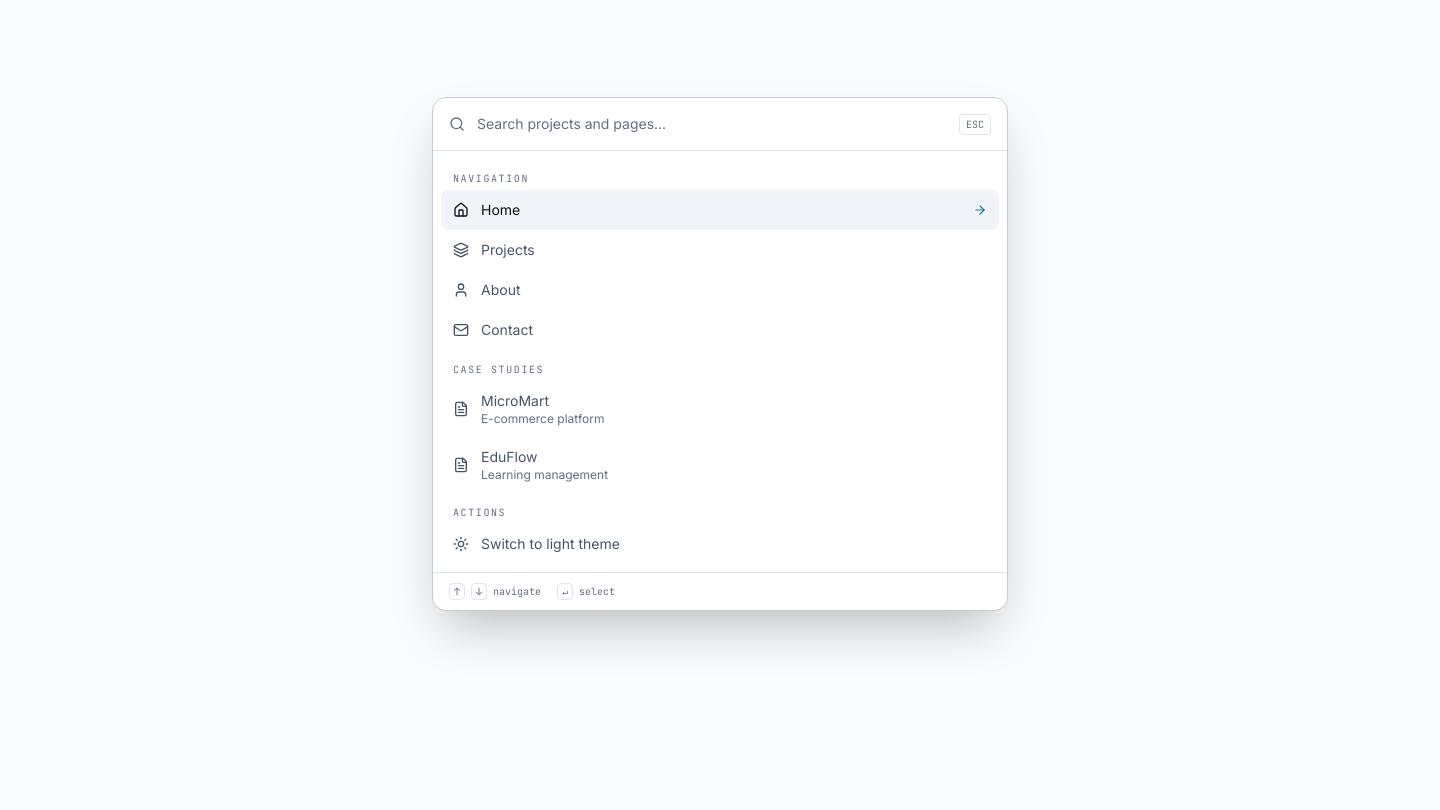
it: CommandPalette › reports when nothing matches
Type "zzzznomatch" into the field at (712, 124), box [477,98,947,150]
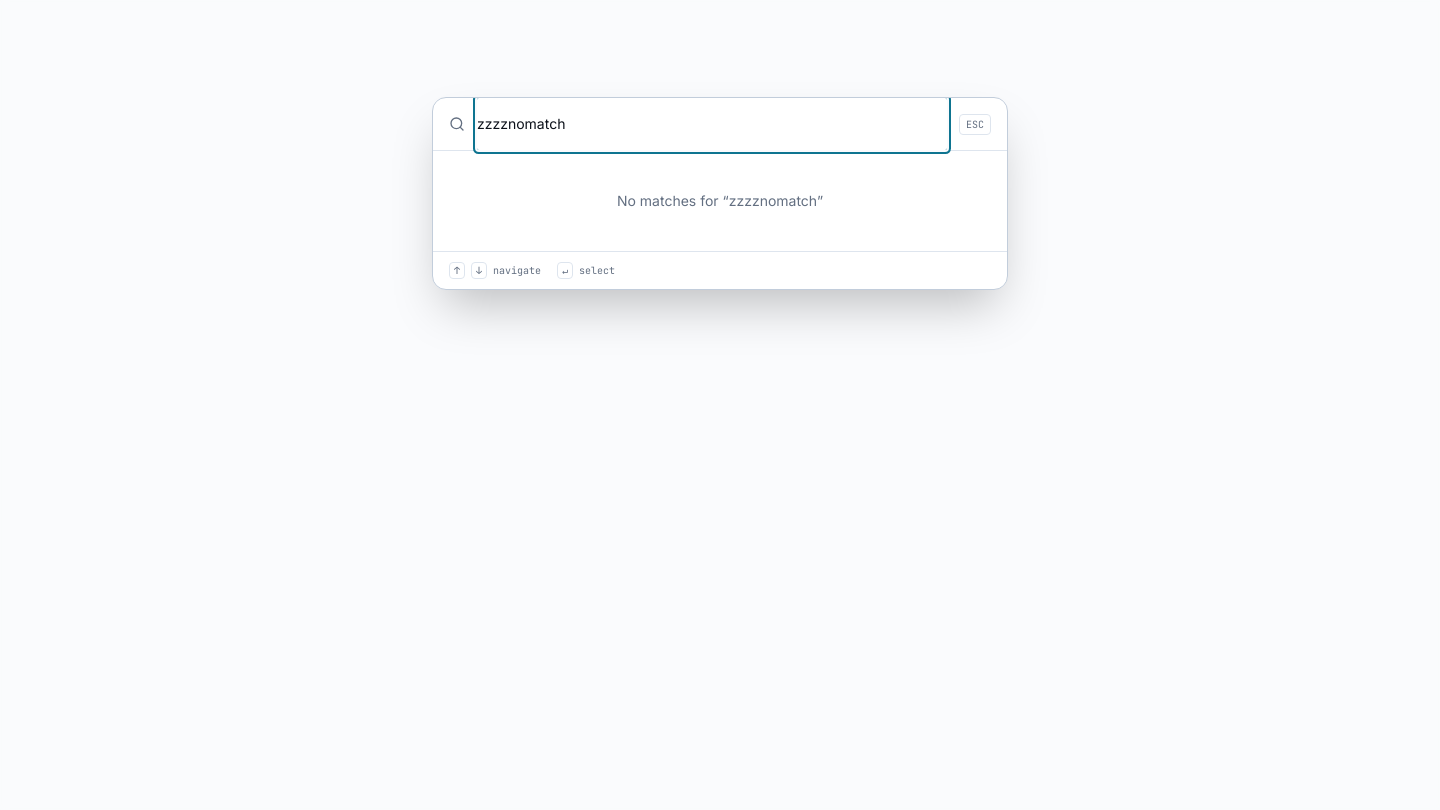
Result: the text "No matches for “zzzznomatch”" is shown at [617,192,823,209]
